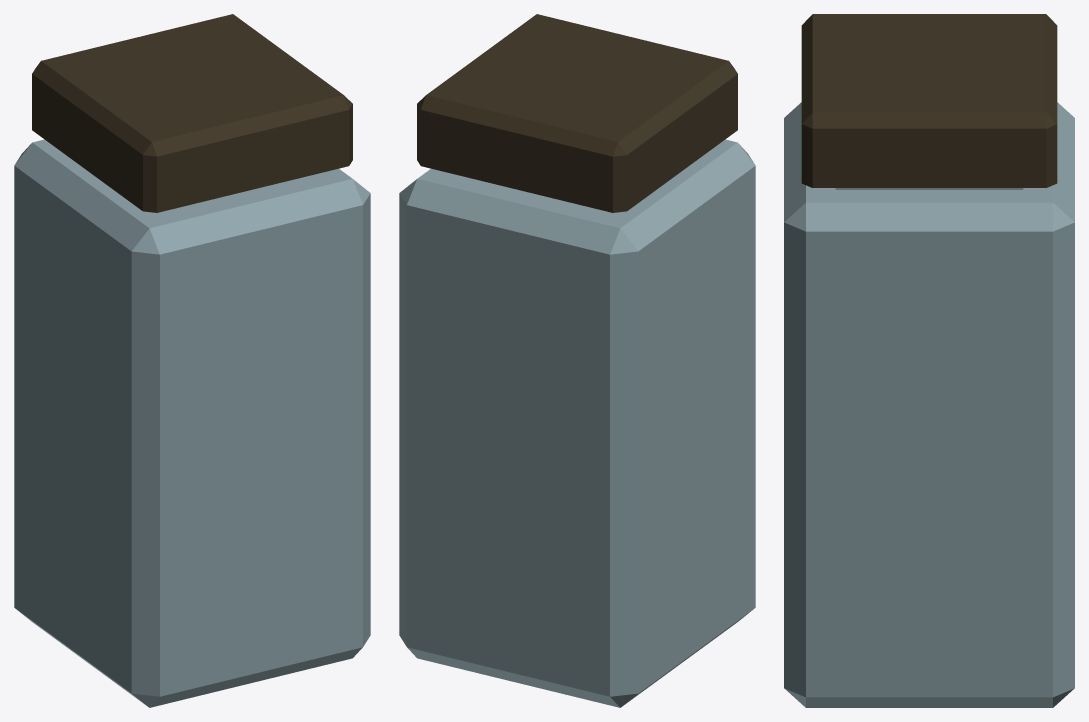
Rendered from B2-5_RectangularGlass.fbx.
3 views of the same model, side by side, from view 1: azimuth 30°, elevation 25°; view 2: azimuth 150°, elevation 25°; view 3: azimuth 270°, elevation 25° (orthographic). The views are drawn at different scales.
Parts seen in each view (by area): view 1: RectangluarGlass; view 2: RectangluarGlass; view 3: RectangluarGlass.
Part boxes in pixels (left/top/right/bottom): RectangluarGlass: left=14, top=14, right=370, bottom=707; RectangluarGlass: left=399, top=14, right=755, bottom=707; RectangluarGlass: left=784, top=14, right=1074, bottom=707.
Bounding box in the file's own units: 1 × 2.25 × 1.
